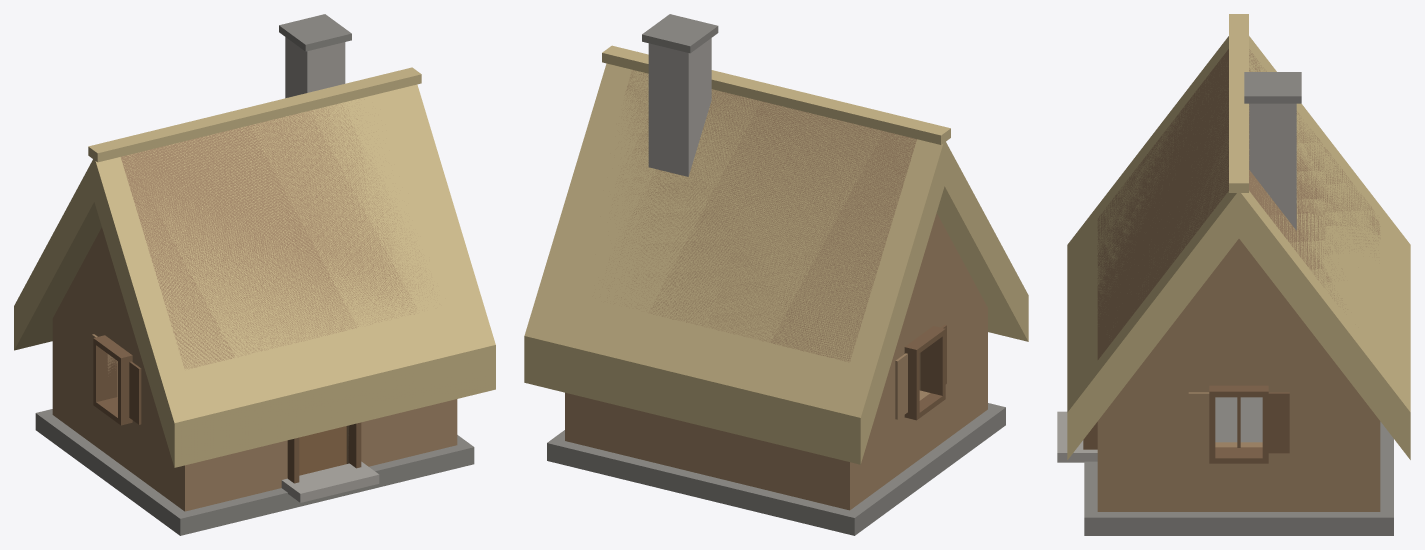
Rendered from House_Hut.fbx.
3 renders of one model, left to right at view 1: azimuth 30°, elevation 25°; view 2: azimuth 150°, elevation 25°; view 3: azimuth 270°, elevation 25°, orthographic. The views are drawn at different scales.
Parts seen in each view (by area): view 1: House_Hut; view 2: House_Hut; view 3: House_Hut.
Part boxes in pixels (box(x1,y1,x2,y2)): House_Hut: box(14, 14, 495, 535); House_Hut: box(524, 14, 1028, 535); House_Hut: box(1057, 14, 1410, 535).
Size of the model in its own units: 5.95 by 5.25 by 6.8.
